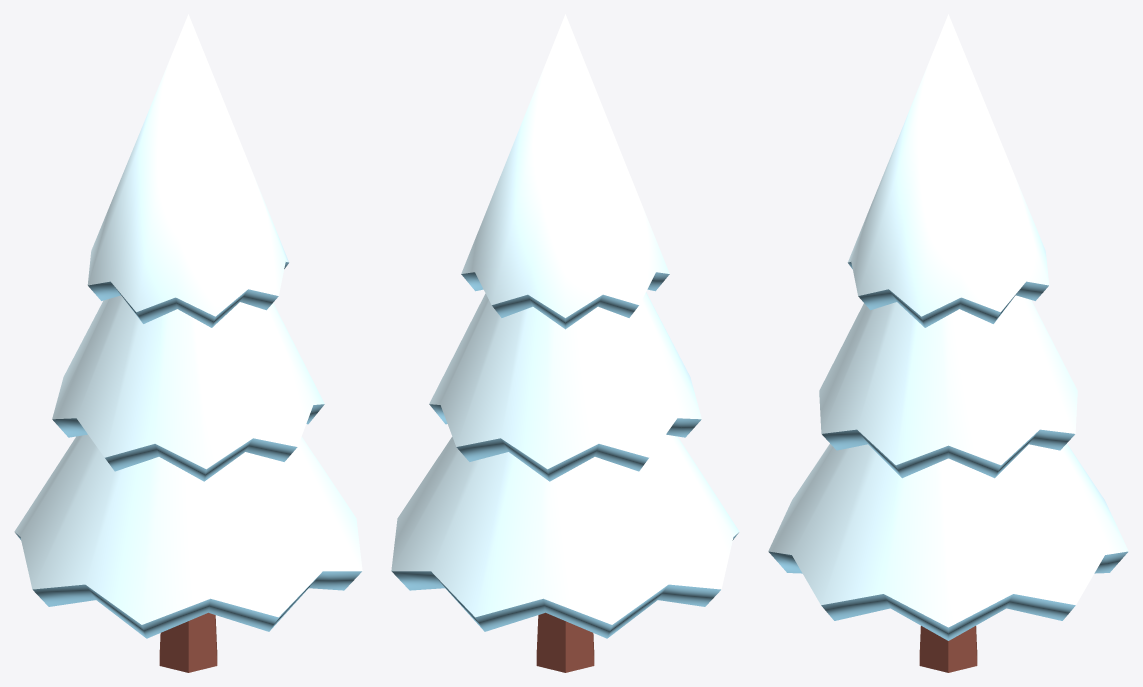
The model's file is Env_Pine_Medium.glb.
3 renders of one model, left to right at view 1: azimuth 30°, elevation 25°; view 2: azimuth 150°, elevation 25°; view 3: azimuth 270°, elevation 25°, orthographic.
Visible parts, largest first — view 1: Pine_Medium_Foliage, Pine_Medium_Trunk; view 2: Pine_Medium_Foliage, Pine_Medium_Trunk; view 3: Pine_Medium_Foliage, Pine_Medium_Trunk.
Boxes of the visible parts, x1,y1,x2,y2 form: Pine_Medium_Foliage: (14, 14, 362, 638); Pine_Medium_Trunk: (159, 612, 217, 672); Pine_Medium_Foliage: (391, 14, 739, 638); Pine_Medium_Trunk: (536, 612, 594, 672); Pine_Medium_Foliage: (768, 14, 1128, 640); Pine_Medium_Trunk: (919, 626, 977, 672).
Size of the model in its own units: 1.11 by 2.2 by 1.11.
